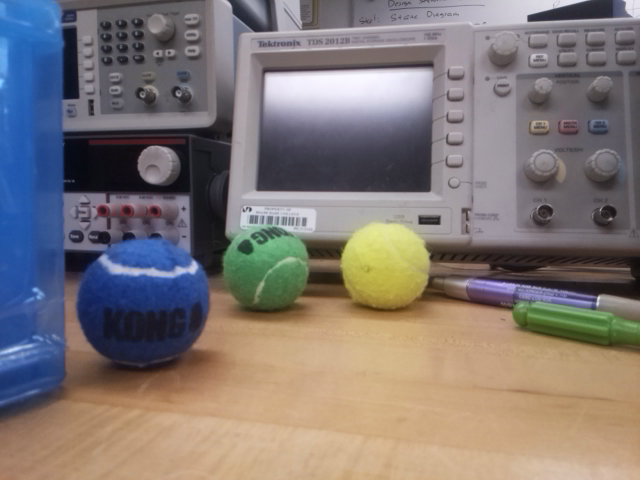blue-ball: (75, 236, 211, 373)
green-ball: (221, 223, 311, 313)
yellow-ball: (339, 221, 432, 313)
